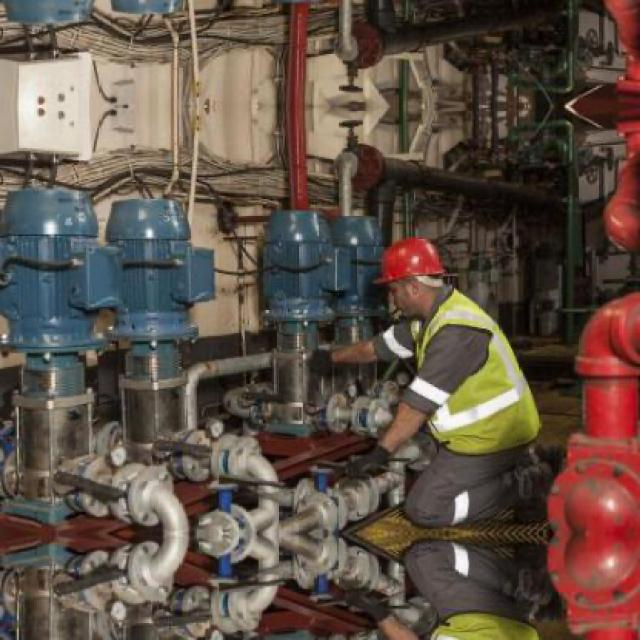helmet: (374, 233, 452, 319)
